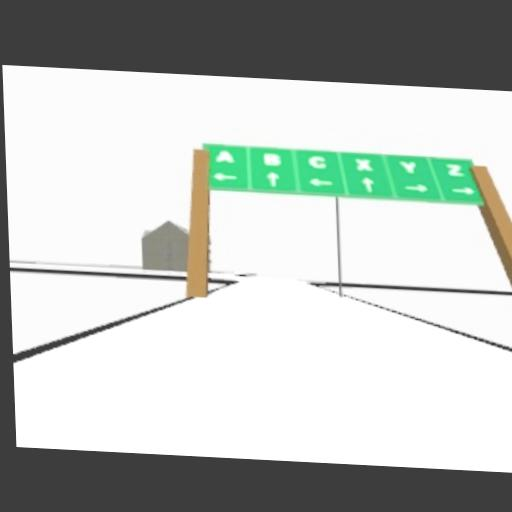A: (215, 149, 234, 163)
B: (261, 152, 282, 166)
C: (308, 154, 327, 168)
Left: (212, 173, 238, 182), (308, 178, 332, 187)
Right: (404, 183, 429, 192), (450, 186, 473, 195)
Straight: (265, 170, 279, 188), (360, 175, 374, 193)
X: (354, 157, 371, 170)
Y: (399, 160, 416, 173)
Z: (446, 162, 465, 176)
